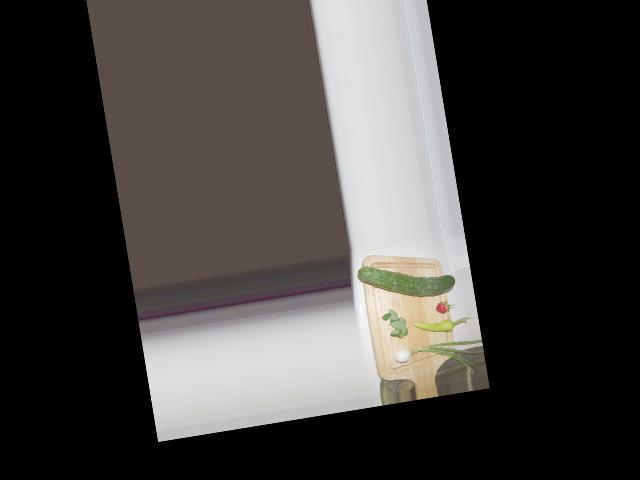cucumber: (357, 252, 456, 306)
